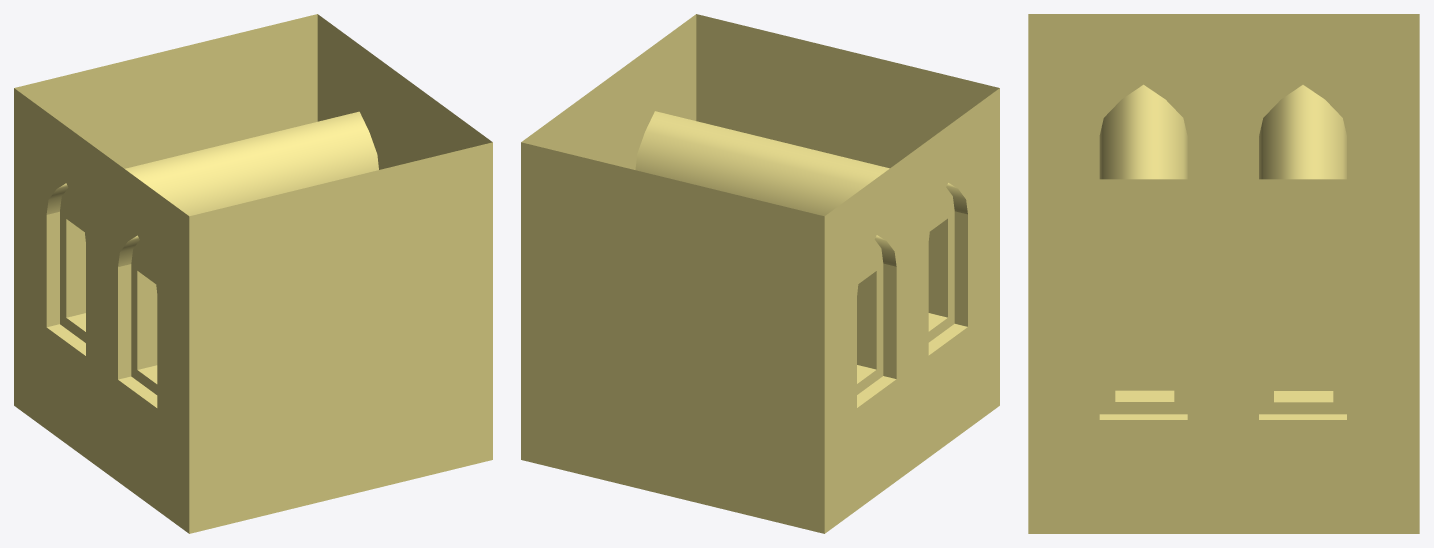
File: base_windows.FBX
3 views of the same model, side by side, from view 1: azimuth 30°, elevation 25°; view 2: azimuth 150°, elevation 25°; view 3: azimuth 270°, elevation 25° (orthographic). The views are drawn at different scales.
Visible parts, largest first — view 1: base_windows; view 2: base_windows; view 3: base_windows.
Boxes of the visible parts, x1,y1,x2,y2 form: base_windows: (14,14,492,533); base_windows: (521,14,999,533); base_windows: (1028,14,1419,533).
Size of the model in its own units: 10 by 10 by 10.
